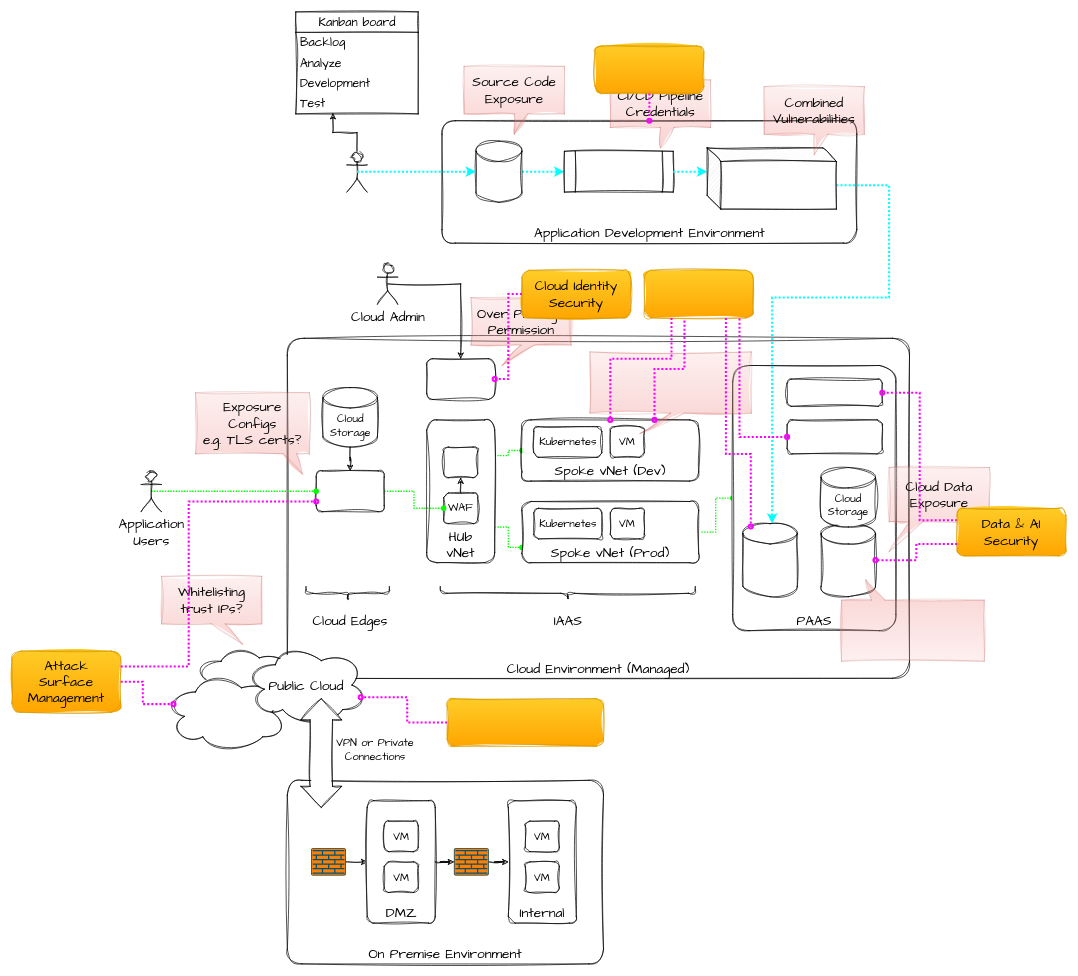
Image size: 1078x976. Some labels were removed from this diagram. The centre of each missing label's shape, as x and y in pixels:
"AI Platform" goes at point (834, 392).
"CDN" goes at point (350, 491).
"CI Pipeline" goes at point (618, 171).
"Cloud Configuration & Threat Detection" goes at point (525, 722).
"Cloud DB" goes at point (848, 560).
"Cloud Services Configuration e.g. Public Exposed?" goes at point (912, 620).
"Code & Pipeline Security" goes at point (649, 69).
"Container Image" goes at point (771, 178).
"Container Image Registry" goes at point (769, 560).
"Developers" goes at point (356, 171).
"GIT" goes at point (498, 171).
"IAM" goes at point (460, 379).
"NLB" goes at point (460, 462).
"Serverless Platform" goes at point (834, 436).
"Shadow Clouds" goes at point (225, 712).
"Workload Configuration e.g. Public IP attached?" goes at point (670, 392).
"Workload Security" goes at point (698, 294).
